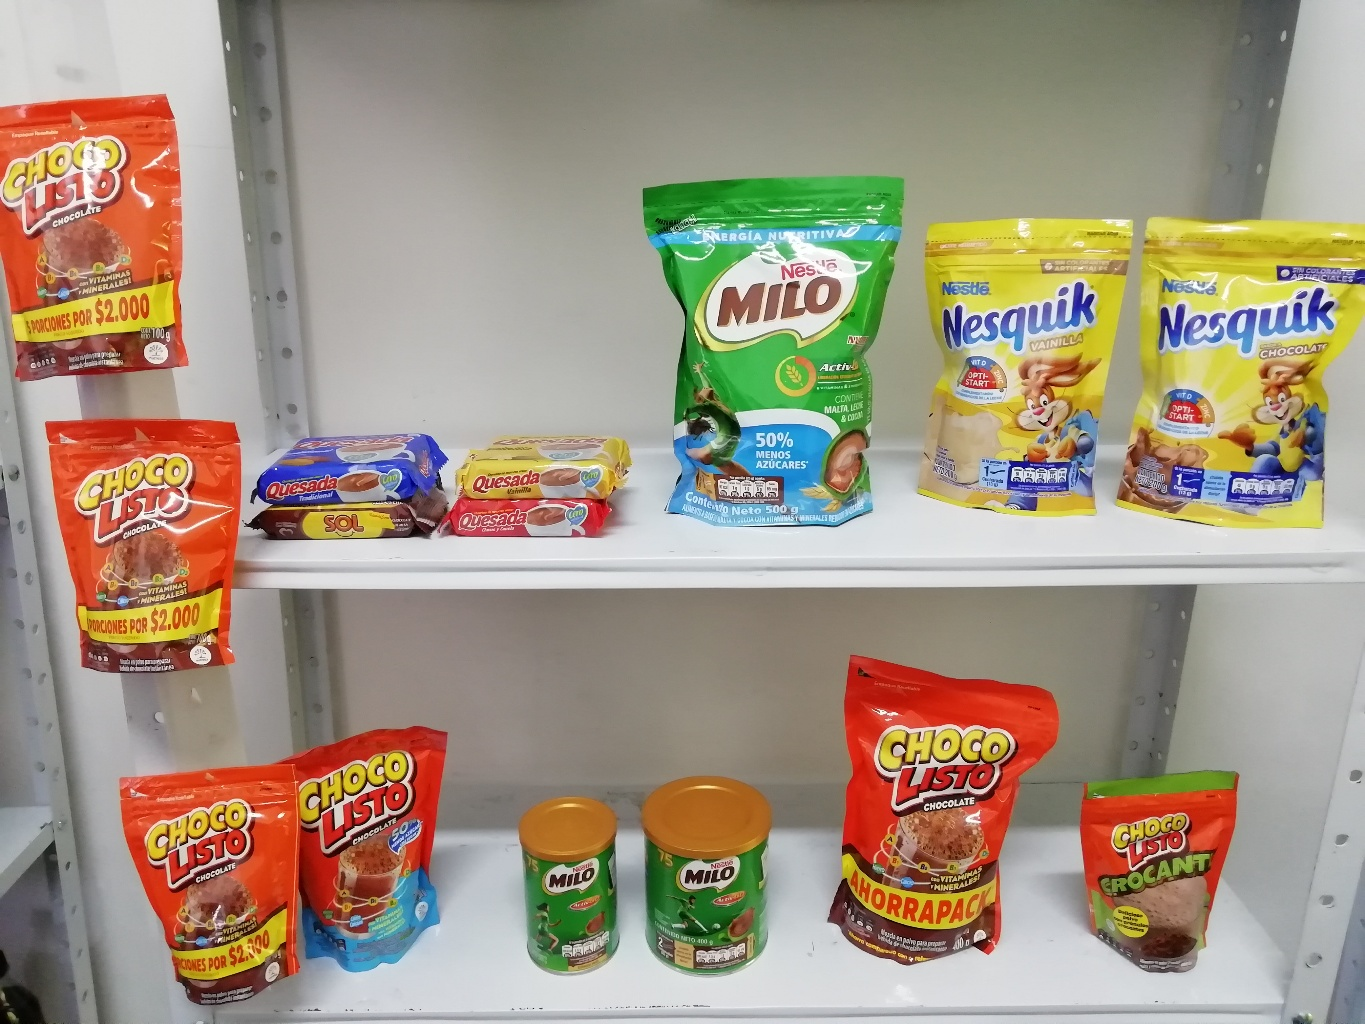COL0170102DYP10000: (1076, 770, 1239, 980)
COL0170103DYP10000: (44, 419, 242, 675)
COL0170103DYP40000: (829, 645, 1064, 969)
COL0170104DYP20000: (281, 720, 449, 971)
COL0170203LAT20000: (509, 787, 632, 979)
COL0170203LAT40000: (635, 756, 780, 976)
COL0170205DYP50000: (640, 175, 909, 535)
COL0170303DYP20000: (1137, 215, 1361, 537)
COL0170306DYP20000: (918, 209, 1134, 536)
